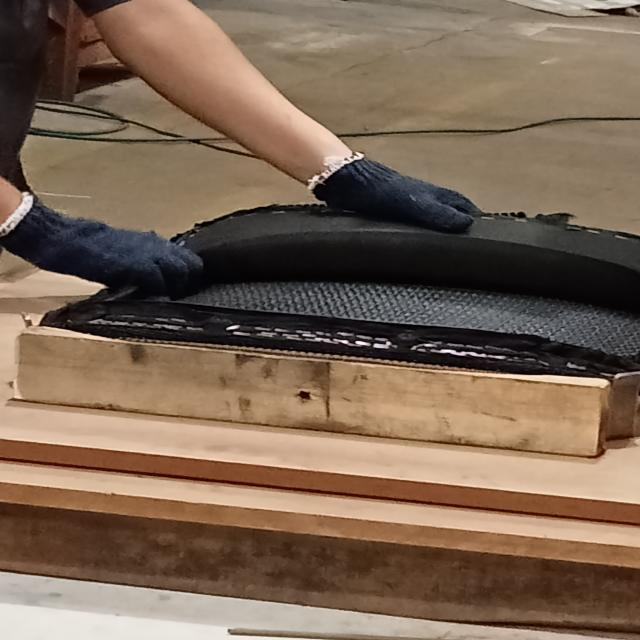Gloves-Detection: (23, 195, 188, 289), (325, 150, 479, 232)
